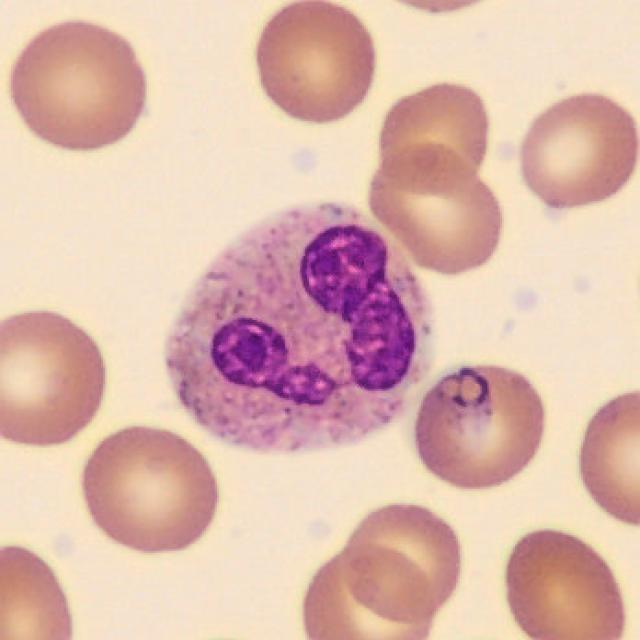Neutrofilo segmentado: (164, 201, 432, 455)
